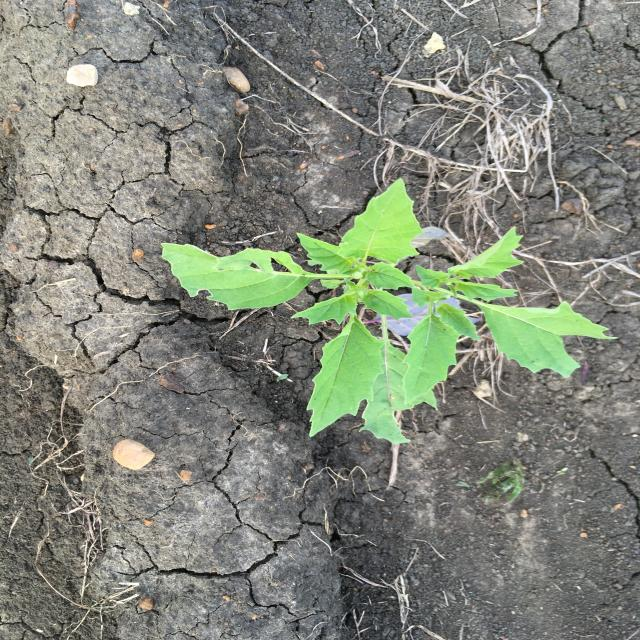CutleafGroundcherry: (158, 174, 622, 447)
